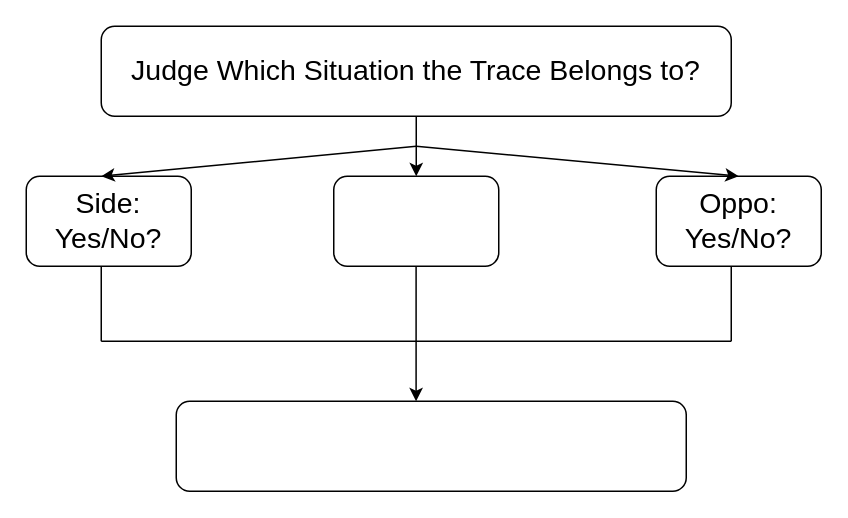
Image size: 848x518. Some labels were removed from this diagram. The shapes that lost their labels are listed below. From the top down, each one's centre as x and y in pixels, then its label:
At point 415,220: "Follow: Yes/No?".
At point 430,445: "Keeping Social Distancing?".
